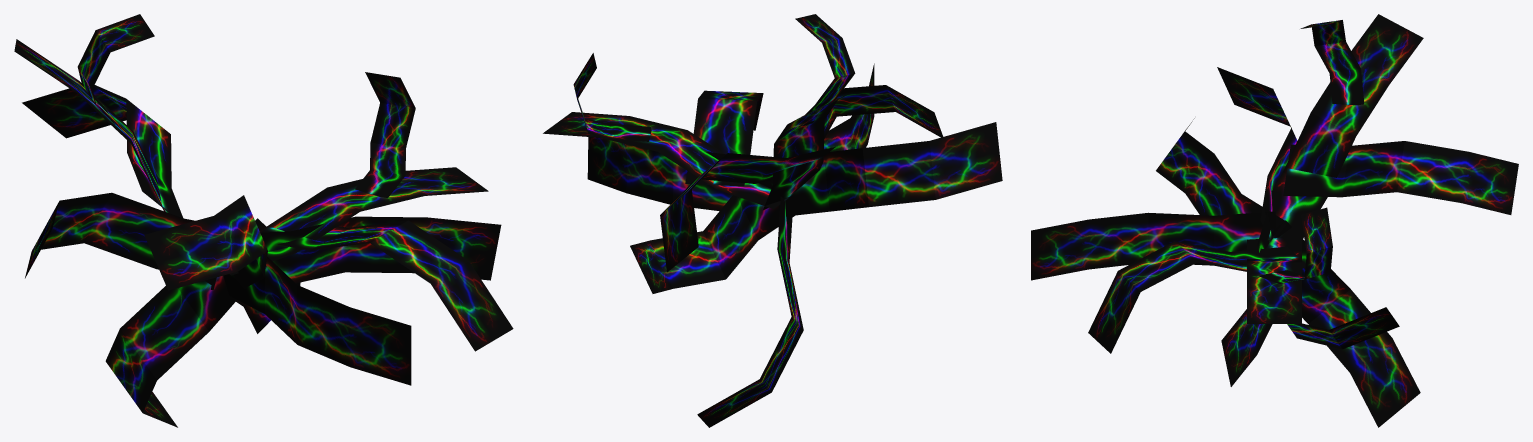
File: Lightning.FBX
3 views of the same model, side by side, from view 1: azimuth 30°, elevation 25°; view 2: azimuth 150°, elevation 25°; view 3: azimuth 270°, elevation 25° (orthographic). The views are drawn at different scales.
Visible parts, largest first — view 1: ElectricityGroup_02; view 2: ElectricityGroup_02; view 3: ElectricityGroup_02.
Part boxes in pixels (bbox=[...]): ElectricityGroup_02: bbox=[14, 14, 513, 427]; ElectricityGroup_02: bbox=[543, 14, 1002, 427]; ElectricityGroup_02: bbox=[1031, 14, 1518, 427].
Bounding box in the file's own units: 330 × 301 × 354.
